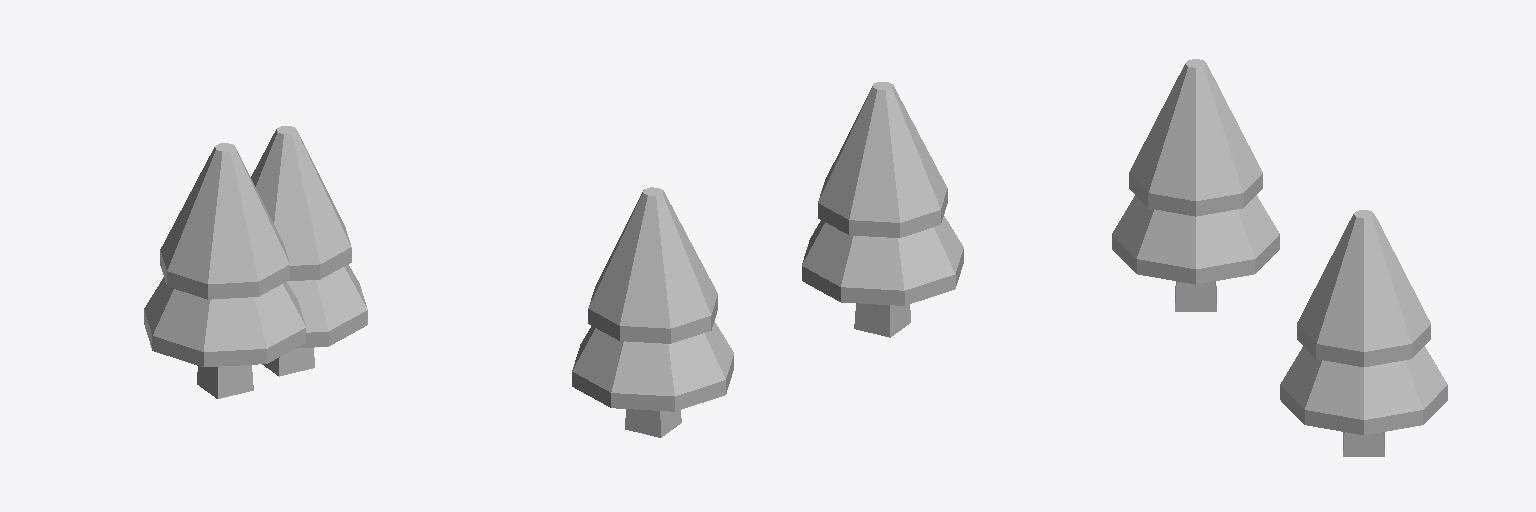
Rendered from TreeDoubleCornerUpwards.obj.
3 views of the same model, side by side, from view 1: azimuth 30°, elevation 25°; view 2: azimuth 150°, elevation 25°; view 3: azimuth 270°, elevation 25° (orthographic).
Parts seen in each view (by area): view 1: tree.011_tree.008; view 2: tree.011_tree.008; view 3: tree.011_tree.008.
Boxes of the visible parts, box(x1,y1,x2,y2) form: tree.011_tree.008: box(144, 126, 367, 398); tree.011_tree.008: box(572, 82, 963, 437); tree.011_tree.008: box(1112, 59, 1447, 456).
Size of the model in its own units: 1 by 1.03 by 1.